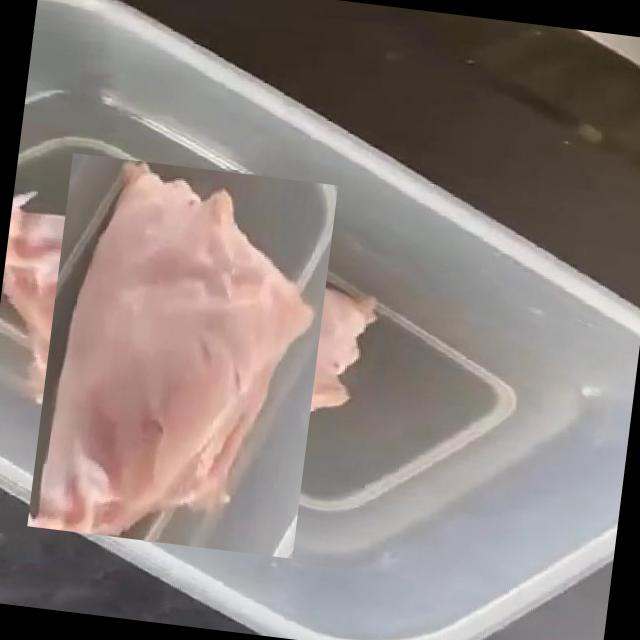chicken: (3, 176, 362, 534)
